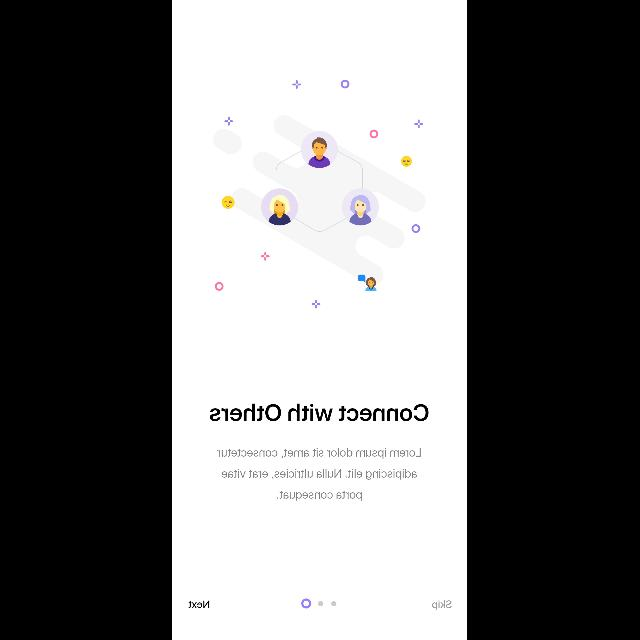image: (214, 80, 426, 308)
pageindicator: (302, 598, 338, 608)
text: (218, 448, 422, 500), (210, 403, 430, 421), (433, 600, 453, 610), (188, 600, 210, 608)
